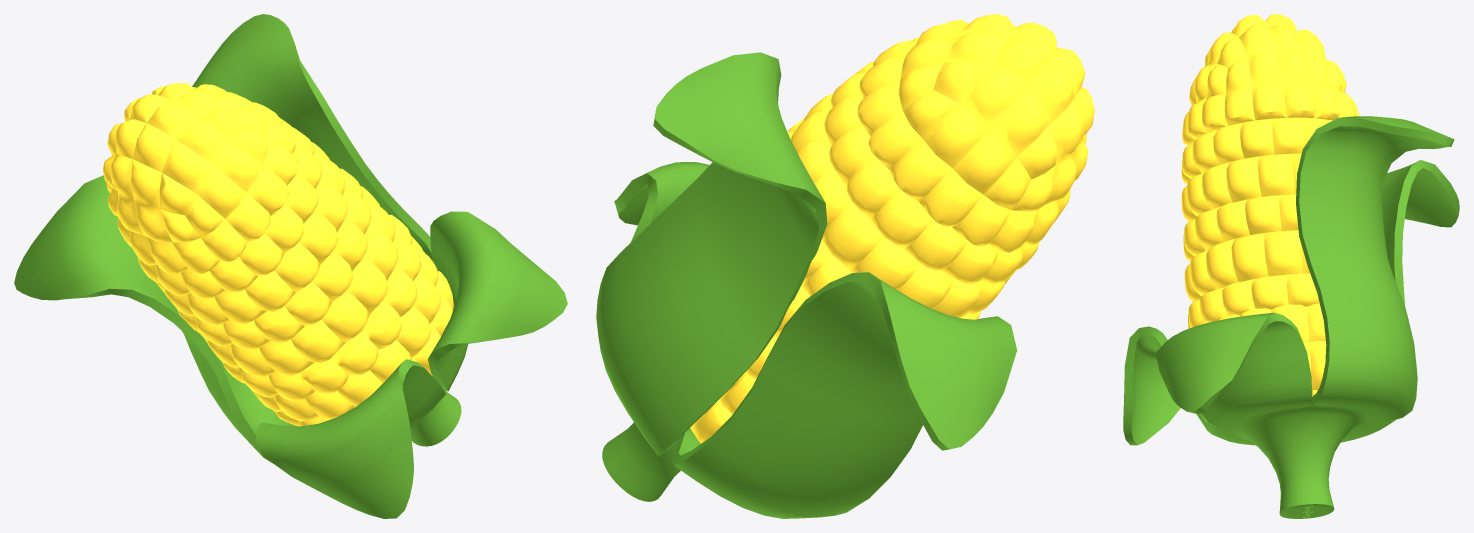
The model's file is ear_of_corn.gltf.
The picture shows the model from 3 angles, left to right: view 1: azimuth 30°, elevation 25°; view 2: azimuth 150°, elevation 25°; view 3: azimuth 270°, elevation 25°; orthographic projection. The views are drawn at different scales.
Parts seen in each view (by area): view 1: Cube.344; view 2: Cube.344; view 3: Cube.344.
Part boxes in pixels (box(x1,y1,x2,y2)): Cube.344: box(14, 14, 567, 518); Cube.344: box(596, 14, 1094, 518); Cube.344: box(1123, 14, 1459, 518).
Bounding box in the file's own units: 2.18 × 2.15 × 1.71.
1 material, 1 textured.
